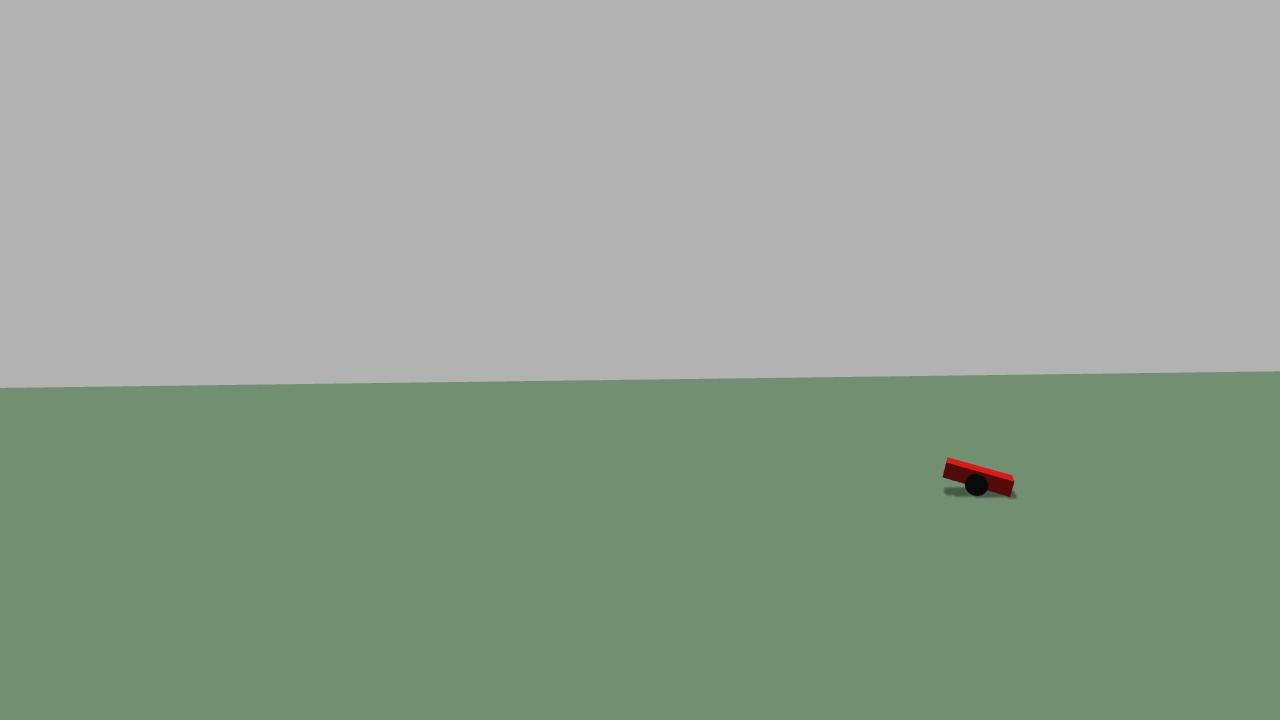ground_vehicle: (935, 443, 1031, 520)
